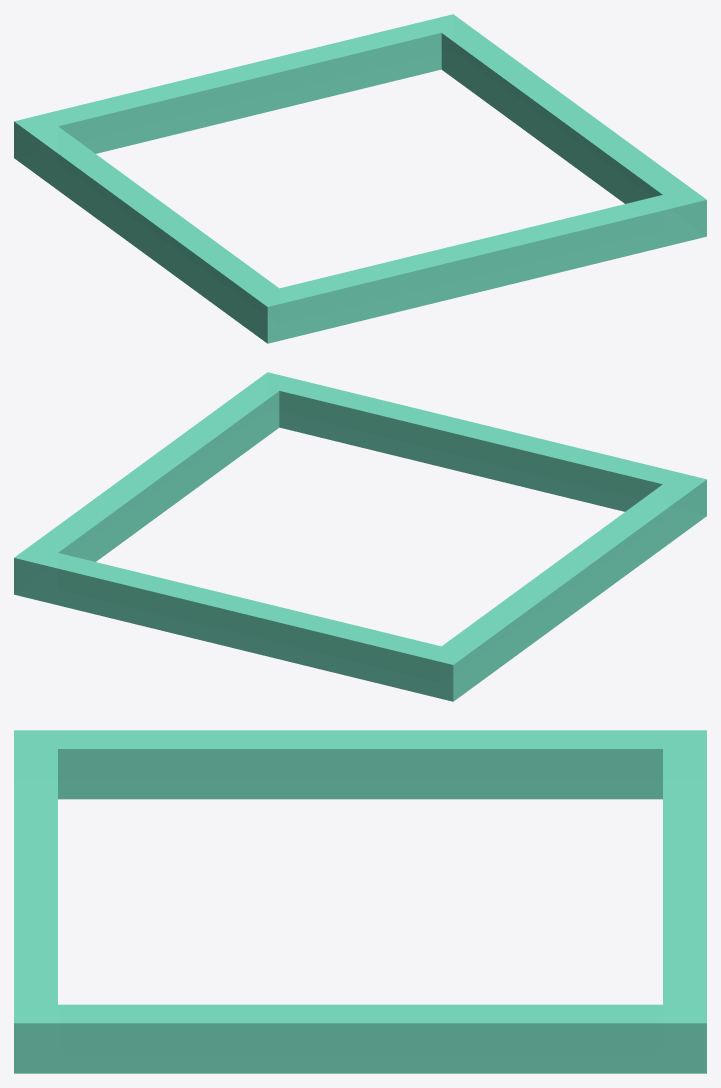
File: tile-window-blue.glb
The picture shows the model from 3 angles, top to bottom: view 1: azimuth 30°, elevation 25°; view 2: azimuth 150°, elevation 25°; view 3: azimuth 270°, elevation 25°; orthographic projection. The views are drawn at different scales.
Visible parts, largest first — view 1: tile; view 2: tile; view 3: tile.
Boxes of the visible parts, box(x1,y1,x2,y2) form: tile: box(14, 14, 706, 343); tile: box(14, 372, 706, 701); tile: box(14, 730, 706, 1073).
Size of what is drawn, in the model's own units: 1 by 0.08 by 1.
